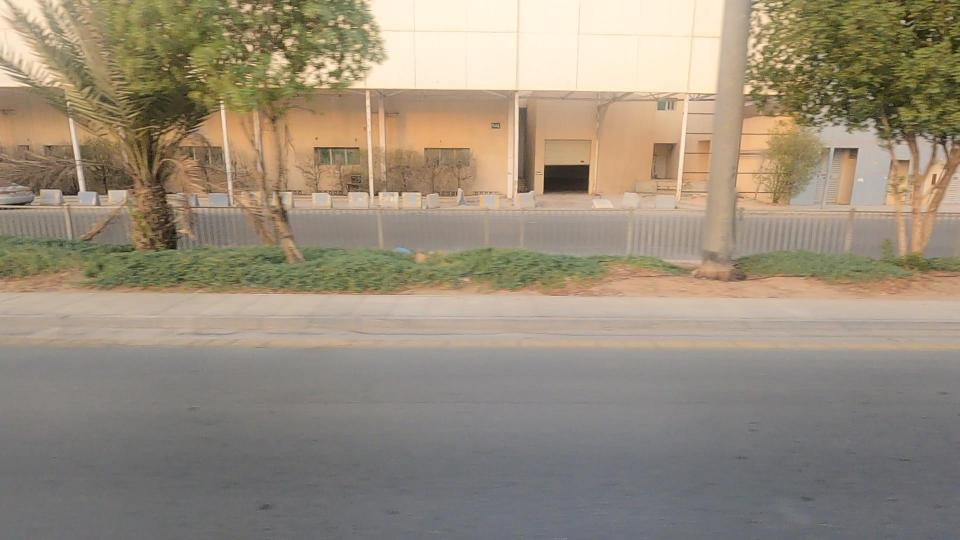GARBAGE: (368, 225, 454, 290)
